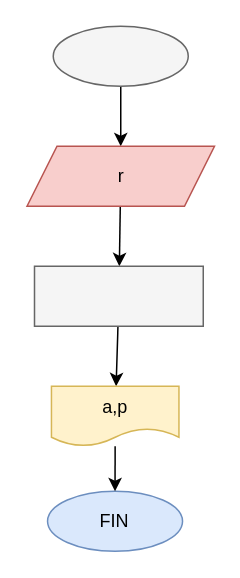
The diagram is 240 pixels wide and 578 high, and some of its shapes have lost their labels. The shapes that lost their labels are listed below. From the top down, each one's box as (x1, y1, x2, y2) in pixels, then its label:
(52, 25, 188, 86): INICIO
(33, 265, 203, 326): a= π r² p= 2 π r
